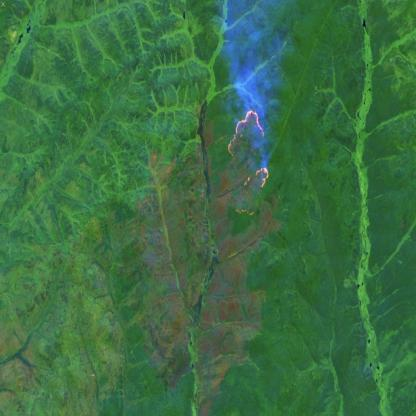fire: (228, 105, 272, 187)
